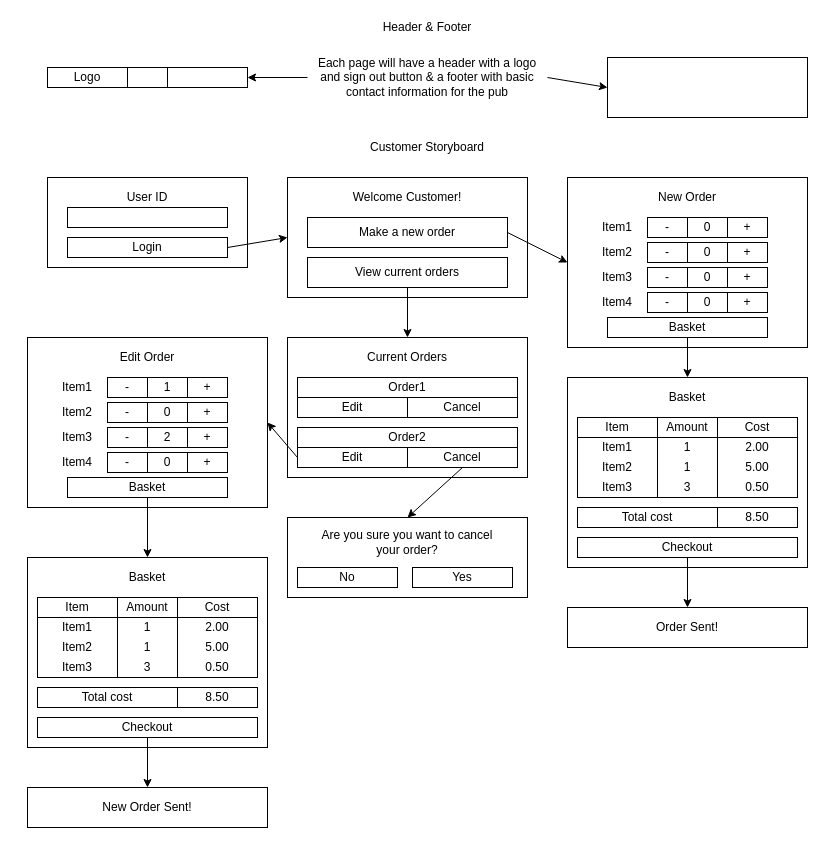
This 825x845 diagram has some shape labels left out. Here are the shapes that lost their labels. From the top down, the centre of each, then its label:
At (207,77): "Sign Out".
At (707,87): "Reach us at: 01823647362 pub@pub.com".
